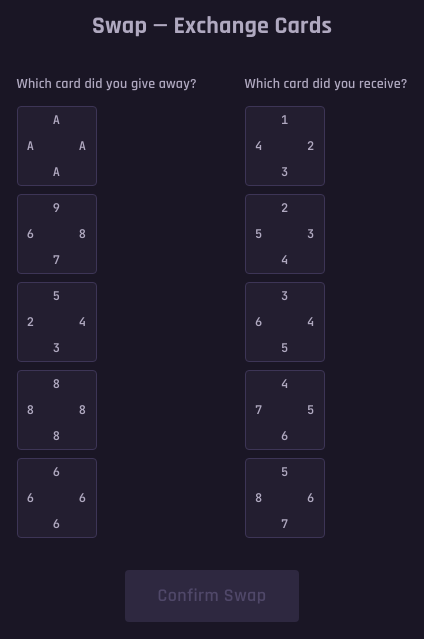
it: SwapStep › Confirm Swap enables after clicking one player card and one opponent card
Check: the button "Confirm Swap" is disabled, box [126, 570, 298, 622]
// Click only a player card — still disabled
Click the button "A A A A".
click(56, 146)  # box [16, 106, 96, 186]
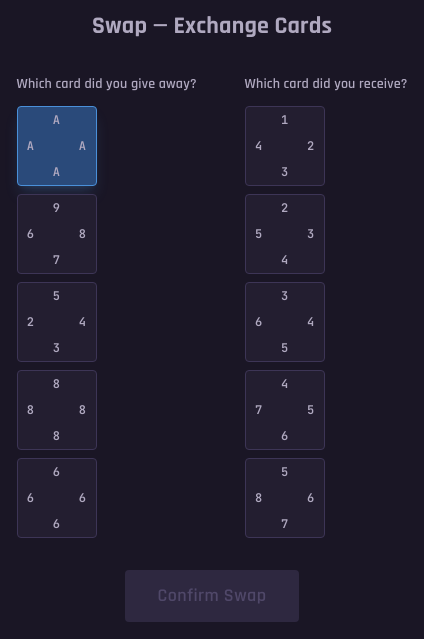
Check: the button "Confirm Swap" is disabled, box [126, 570, 298, 622]
// Click an opponent card — now enabled
Click the button "3 6 4 5".
click(285, 322)  # box [245, 282, 325, 362]
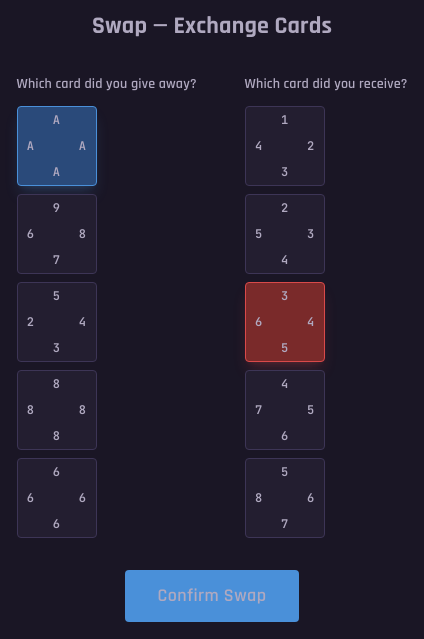
Check: the button "Confirm Swap" is enabled, box [126, 570, 298, 622]
